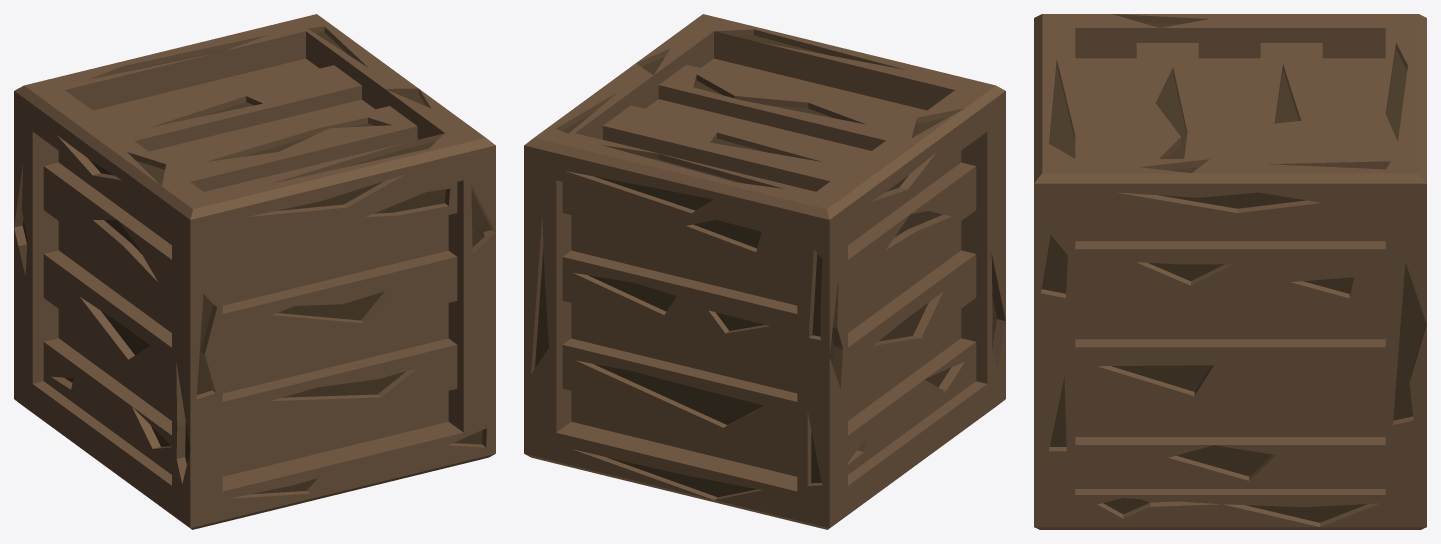
Rendered from LowPolyCrate.fbx.
3 views of the same model, side by side, from view 1: azimuth 30°, elevation 25°; view 2: azimuth 150°, elevation 25°; view 3: azimuth 270°, elevation 25° (orthographic). The views are drawn at different scales.
Parts seen in each view (by area): view 1: Cube; view 2: Cube; view 3: Cube.
Boxes of the visible parts, <box> form: Cube: <box>14,14,495,529</box>; Cube: <box>524,14,1005,529</box>; Cube: <box>1034,14,1426,529</box>.
Size of the model in its own units: 200 by 200 by 200.
